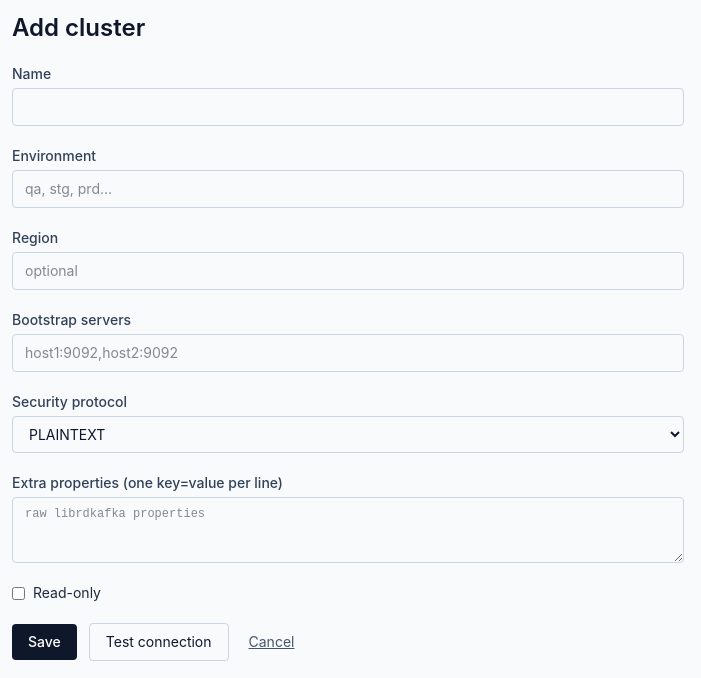
Test: ClusterForm test connection › posts the form values to /api/clusters/test and shows success
The width and height of the screenshot is (701, 678).
In the field labelled "Name": (348, 107) [12,88,684,126], type "dev"
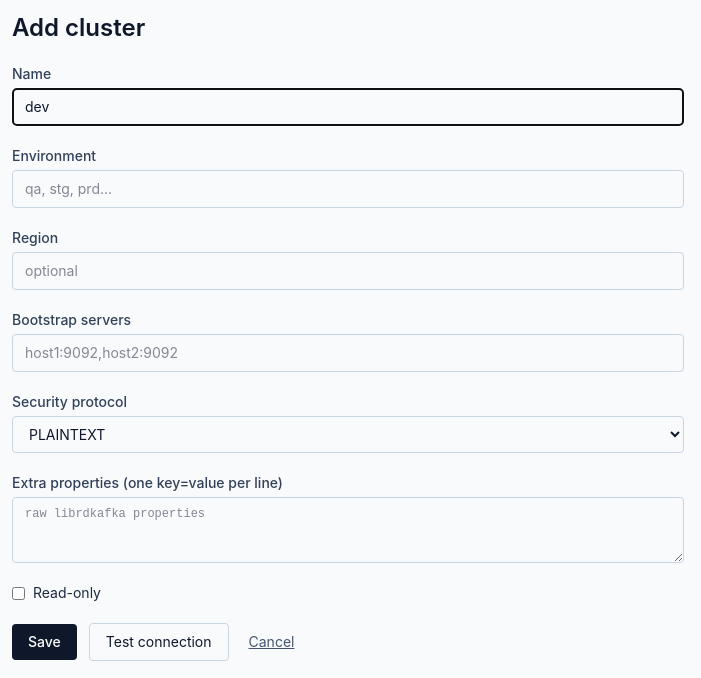
In the field labelled "Environment": (348, 189) [12,170,684,208], type "dev"
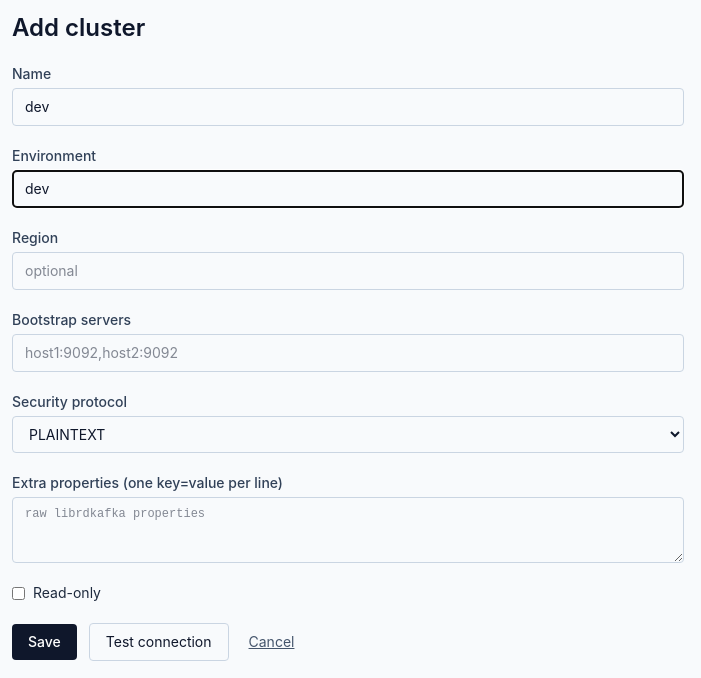
In the field labelled "Bootstrap servers": (348, 353) [12,334,684,372], type "localhost:9092"
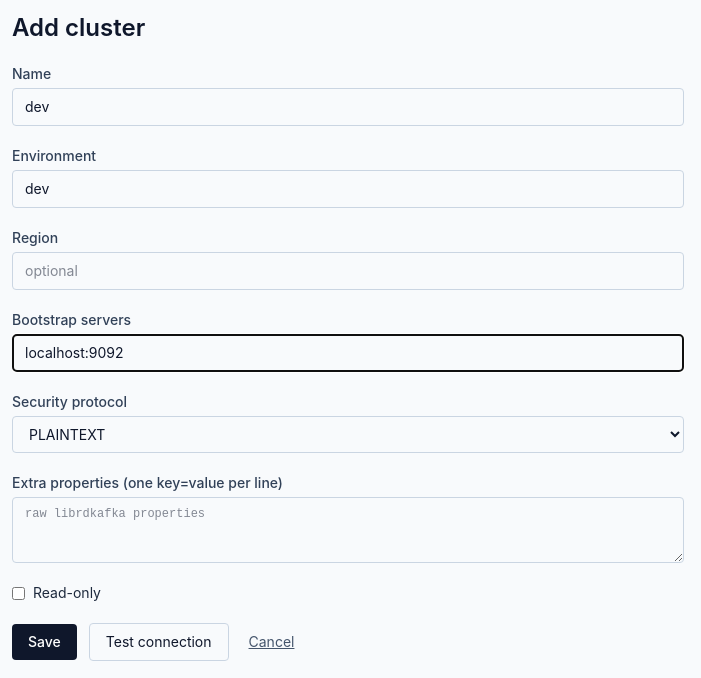
Click the button "Test connection": click(159, 642) [89,623,229,661]
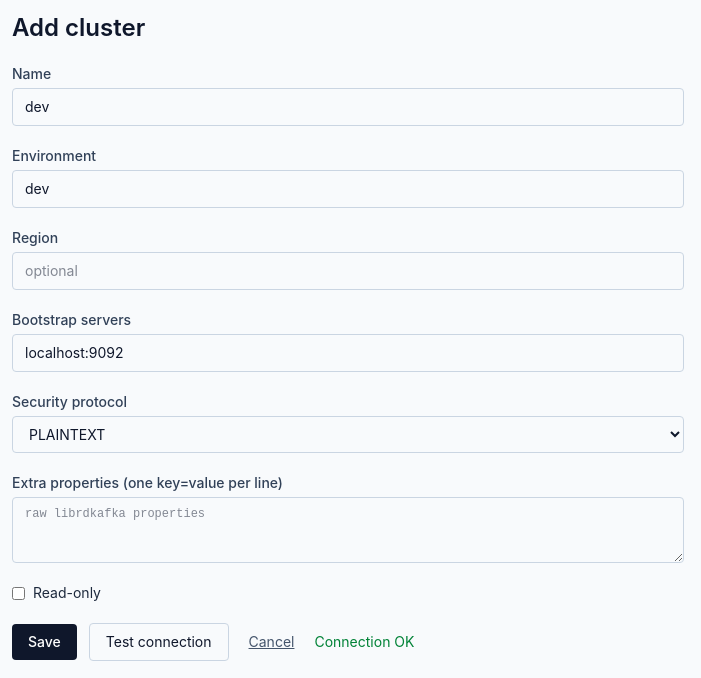
Expected: the text "Connection OK" is shown, [314,633,414,650]
